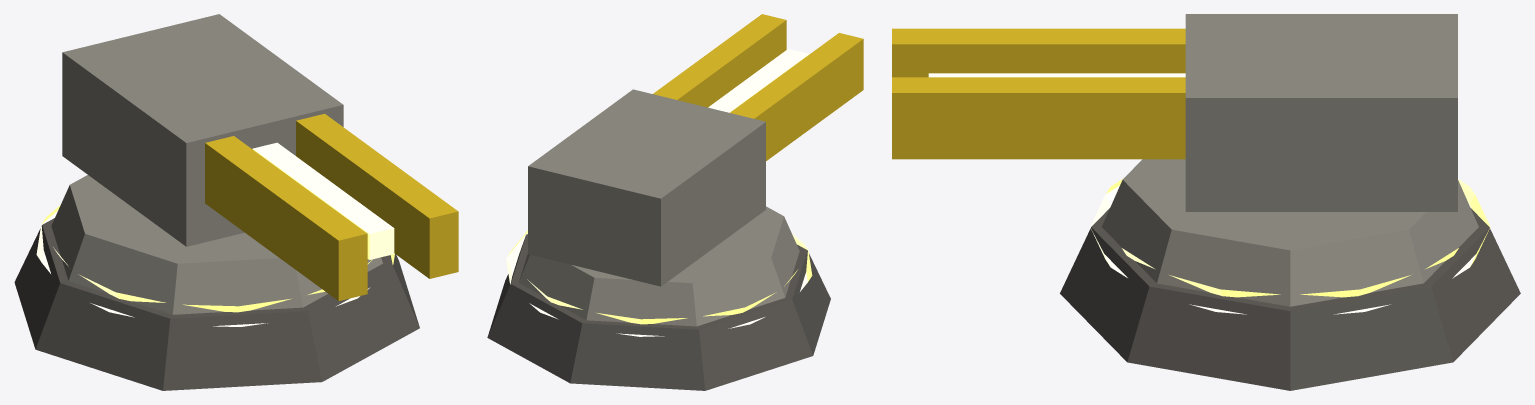
File: railgun.glb
3 views of the same model, side by side, from view 1: azimuth 30°, elevation 25°; view 2: azimuth 150°, elevation 25°; view 3: azimuth 270°, elevation 25° (orthographic). The views are drawn at different scales.
Size of the model in its own units: 0.88 by 0.5 by 1.2.
